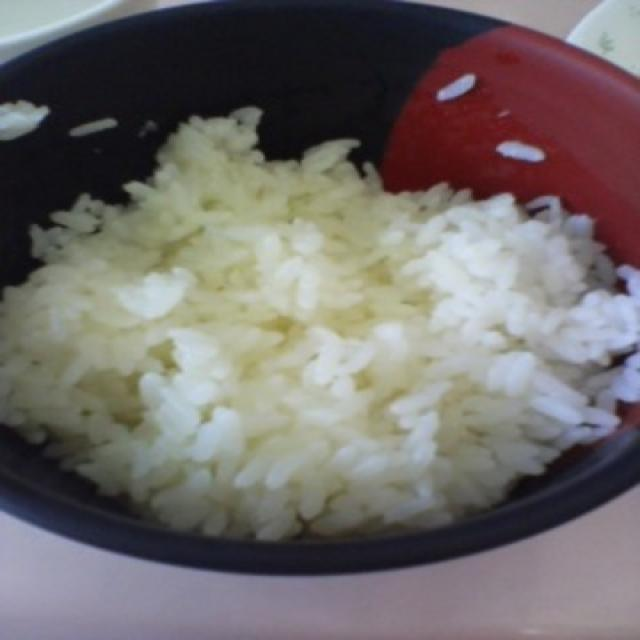Rice: (0, 148, 640, 542)
